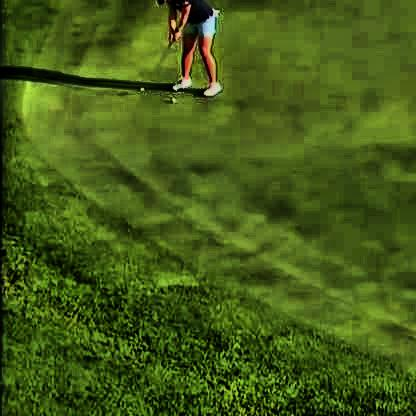golfball: (167, 93, 174, 103)
